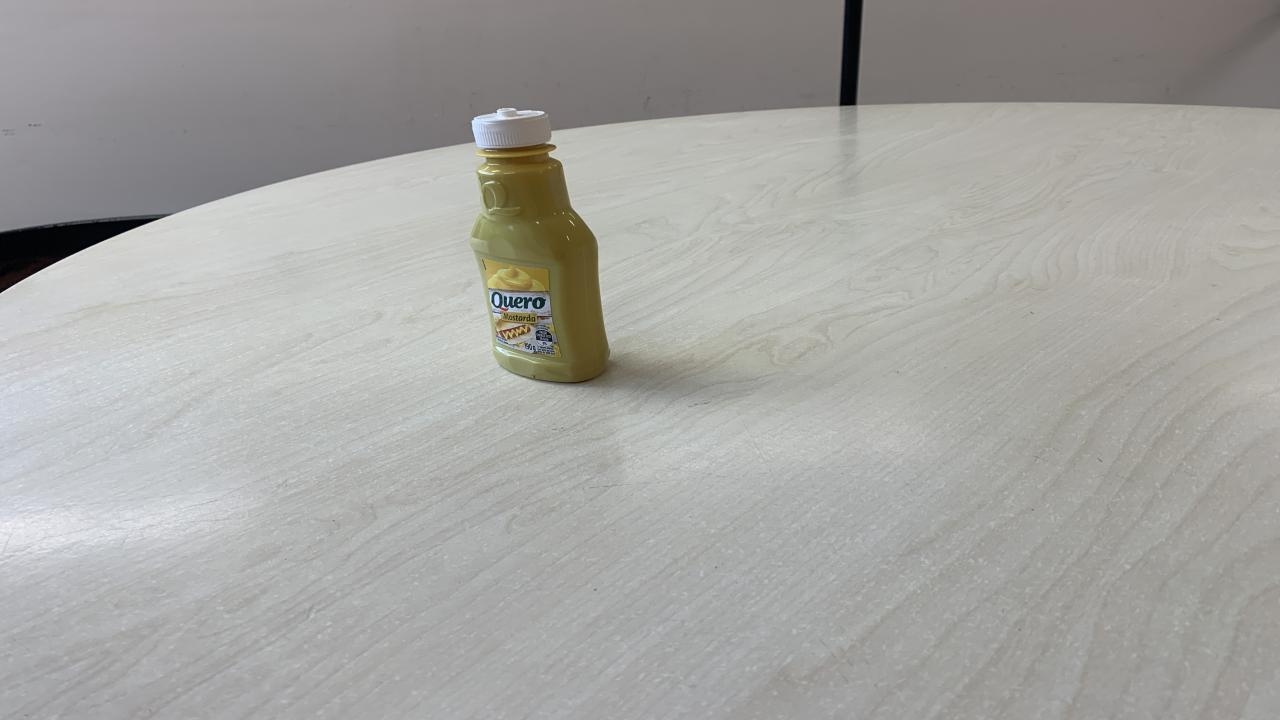Mustard-Pantry_Items: (469, 108, 612, 388)
